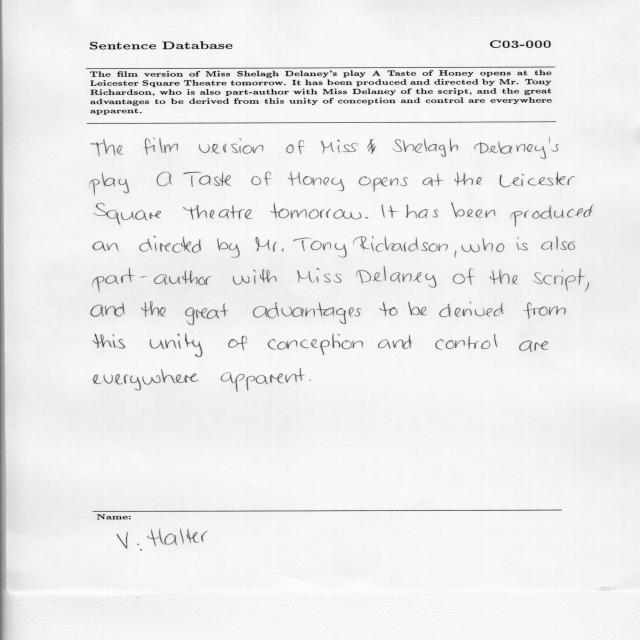word: (93, 268, 212, 292), (253, 302, 361, 324), (94, 369, 199, 390), (221, 368, 305, 392), (268, 334, 363, 355), (511, 204, 594, 227), (474, 137, 558, 159), (356, 267, 437, 288), (353, 236, 448, 252), (271, 203, 362, 219), (95, 203, 161, 225), (393, 138, 458, 157), (534, 268, 586, 291), (150, 334, 202, 357), (499, 172, 575, 187), (293, 238, 347, 258), (288, 172, 344, 191), (139, 236, 201, 253), (183, 205, 252, 220), (199, 138, 263, 154), (435, 334, 497, 350), (439, 302, 504, 317), (185, 303, 229, 325), (90, 173, 129, 195), (321, 139, 376, 154), (359, 176, 408, 192), (523, 302, 566, 319), (183, 172, 231, 187), (452, 202, 496, 218), (233, 269, 277, 285), (297, 268, 342, 283), (144, 137, 178, 155), (462, 238, 505, 252), (91, 139, 123, 156), (91, 302, 125, 317), (378, 335, 411, 350), (93, 334, 125, 349), (541, 236, 575, 250), (217, 238, 240, 258), (256, 237, 284, 252), (406, 205, 438, 218), (490, 270, 517, 285), (454, 172, 482, 186), (141, 301, 165, 317), (453, 268, 475, 285), (519, 340, 548, 352), (229, 336, 248, 351), (251, 172, 271, 186), (423, 173, 444, 186), (286, 140, 305, 154), (379, 302, 398, 316), (93, 241, 119, 251), (408, 302, 427, 315), (156, 172, 172, 186), (382, 204, 398, 218), (517, 237, 528, 250), (585, 282, 589, 291), (455, 250, 457, 258), (365, 217, 368, 219), (309, 380, 311, 381)
